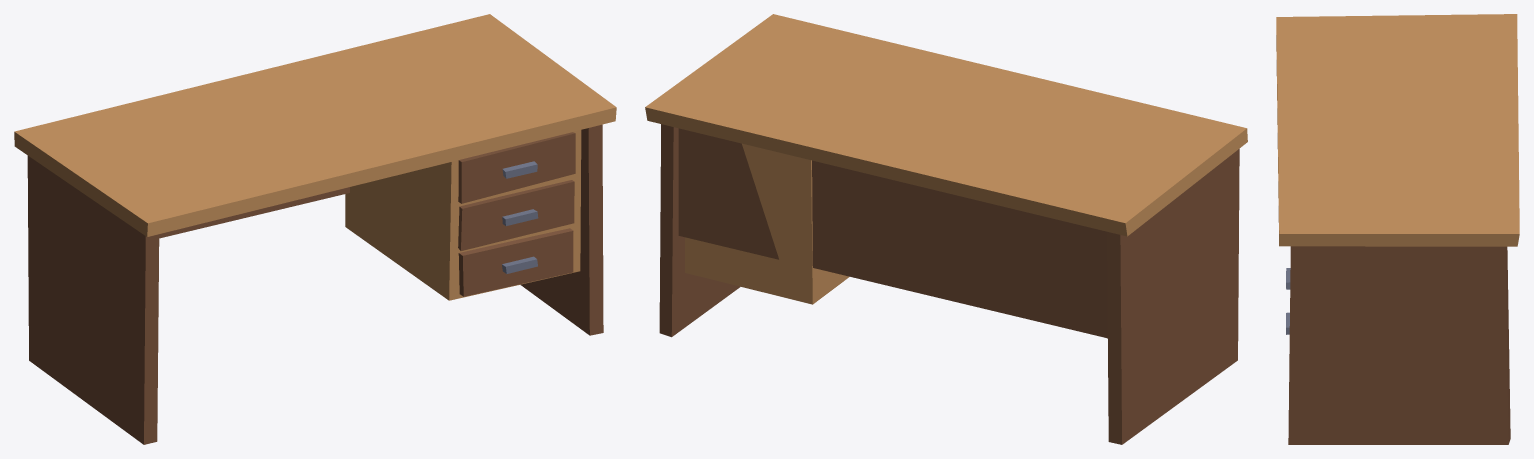
File: desk.fbx
3 views of the same model, side by side, from view 1: azimuth 30°, elevation 25°; view 2: azimuth 150°, elevation 25°; view 3: azimuth 270°, elevation 25° (orthographic). The views are drawn at different scales.
Parts seen in each view (by area): view 1: desk; view 2: desk; view 3: desk.
Part boxes in pixels (x1,y1,x2,y2): desk: [14, 14, 616, 444]; desk: [645, 14, 1247, 444]; desk: [1276, 14, 1519, 444].
Bounding box in the file's own units: 1.63 × 0.7401 × 0.7602.
